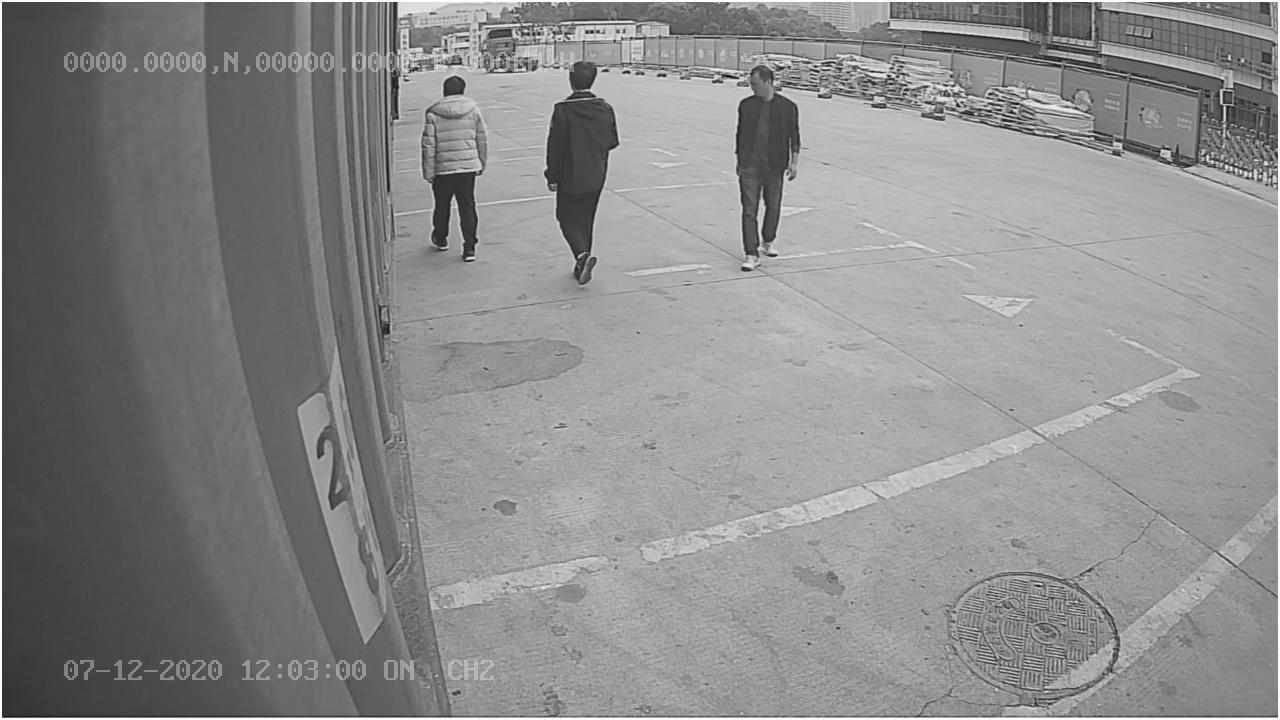person: (542, 62, 622, 284), (730, 67, 802, 271)
